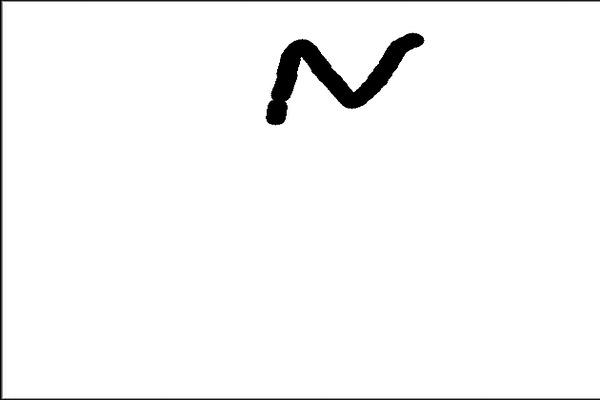N: (258, 28, 429, 129)
